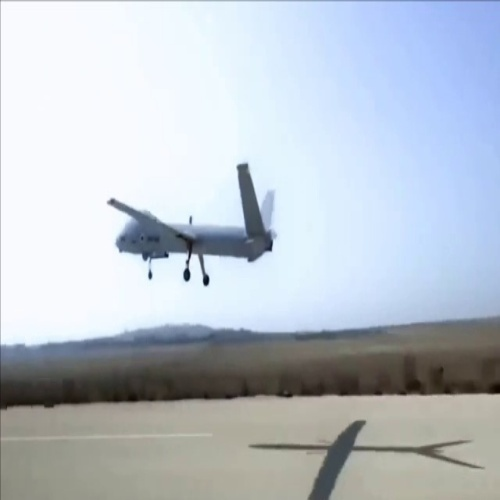uav: (104, 161, 277, 288)
